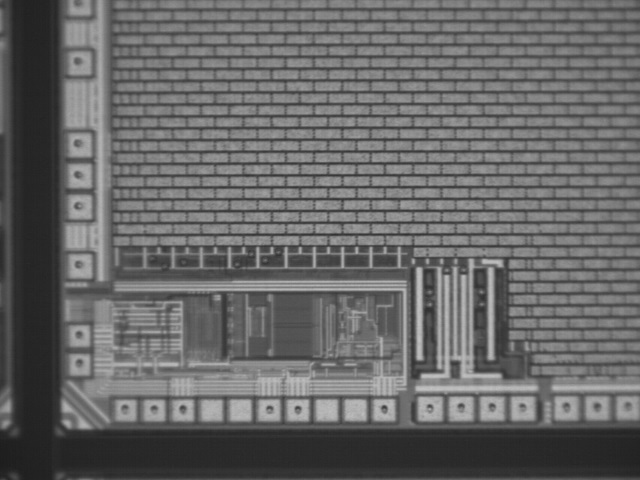normal: (60, 47, 95, 80), (60, 128, 95, 161), (59, 159, 94, 192), (60, 190, 95, 223), (60, 249, 95, 282), (60, 317, 95, 350), (60, 347, 95, 380), (106, 392, 141, 425), (136, 392, 171, 425), (165, 392, 200, 425), (250, 393, 285, 426), (280, 392, 315, 425), (366, 392, 401, 425), (412, 391, 447, 424), (443, 391, 478, 424), (441, 389, 476, 422), (473, 391, 508, 424), (505, 391, 540, 424), (549, 391, 584, 424), (579, 390, 614, 423), (613, 390, 639, 423)
